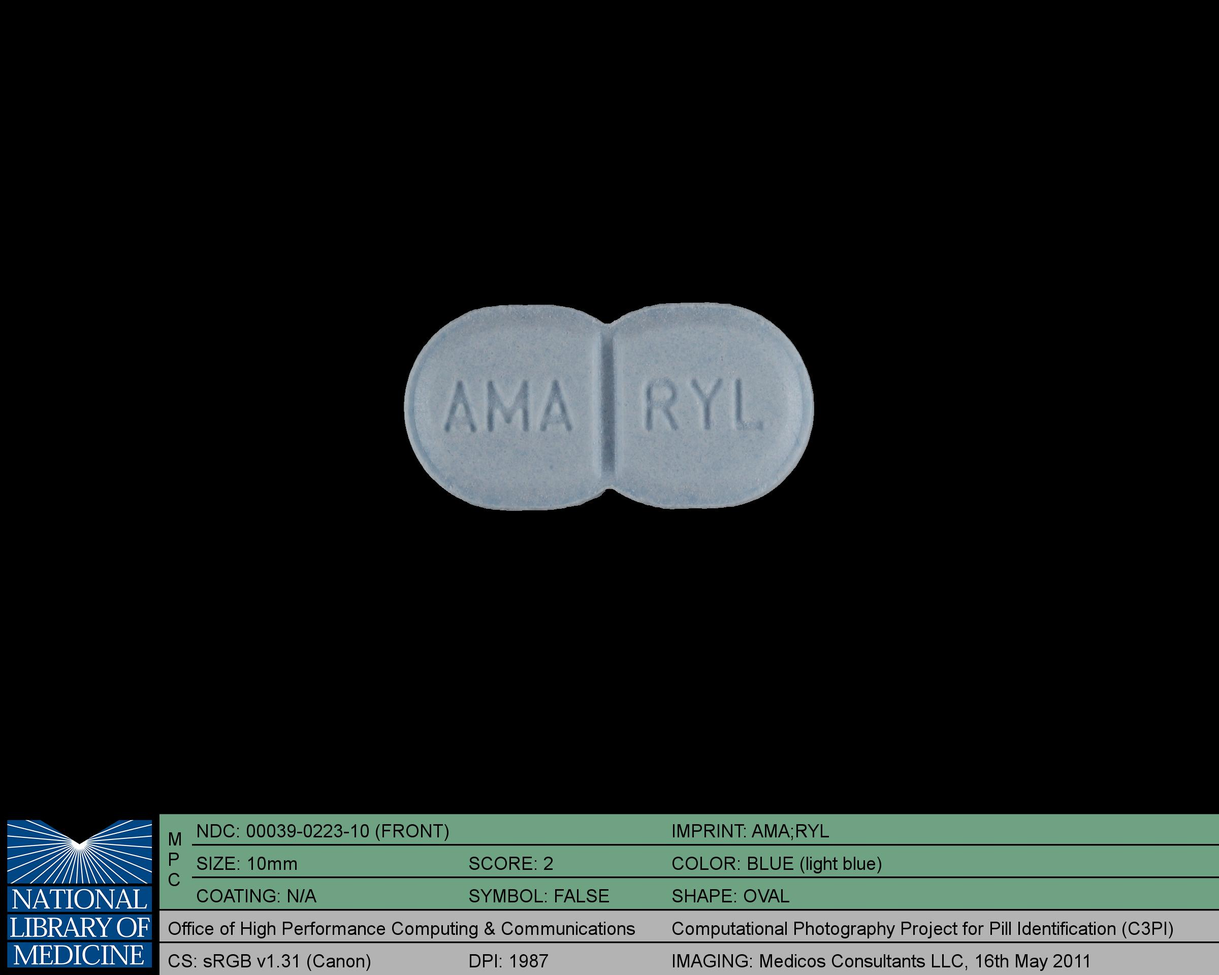Pill: (381, 292, 839, 535)
